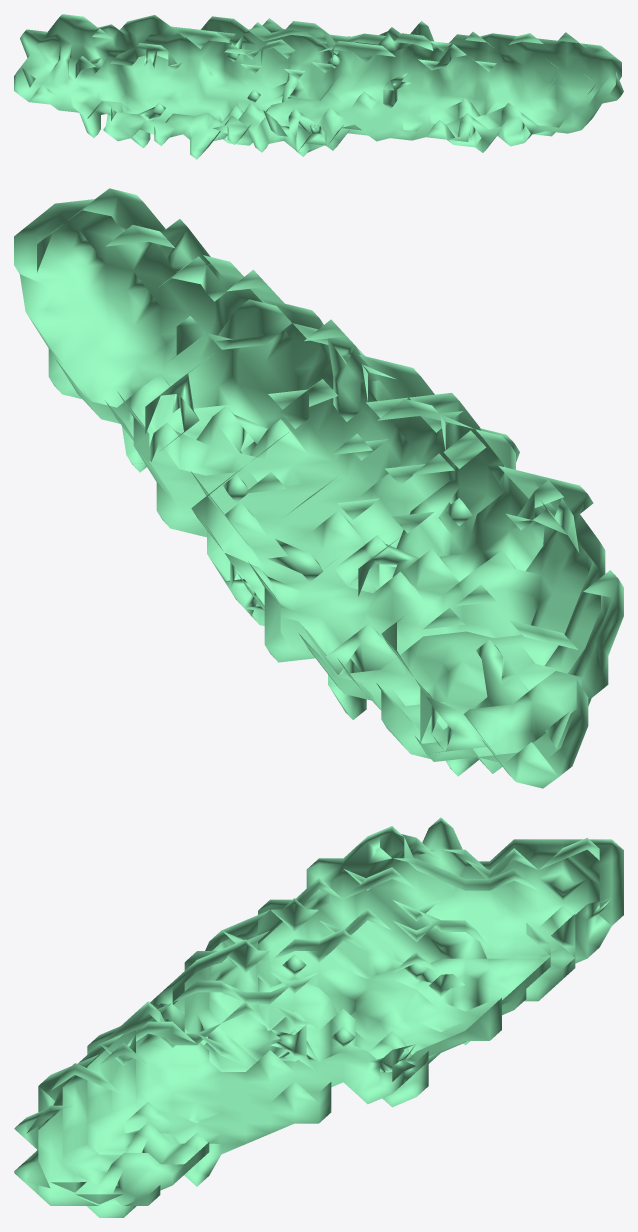
File: osteocyte_43.glb
3 views of the same model, one above another, from view 1: azimuth 30°, elevation 25°; view 2: azimuth 150°, elevation 25°; view 3: azimuth 270°, elevation 25° (orthographic). The views are drawn at different scales.
Parts seen in each view (by area): view 1: osteocyte_43; view 2: osteocyte_43; view 3: osteocyte_43.
Part boxes in pixels (left/top/right/bottom): osteocyte_43: left=14, top=14, right=623, bottom=159; osteocyte_43: left=14, top=188, right=623, bottom=788; osteocyte_43: left=14, top=817, right=623, bottom=1217.
Bounding box in the file's own units: 15.41 × 4.33 × 12.04.
